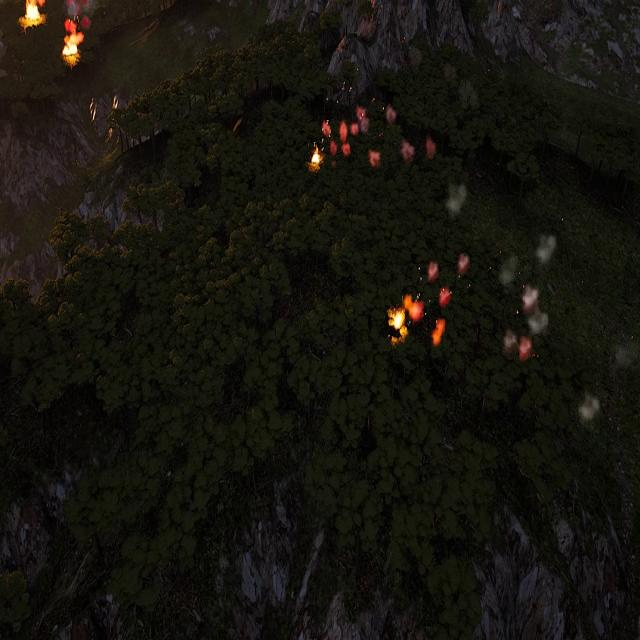fire: (388, 293, 423, 339), (61, 31, 84, 61), (22, 0, 46, 24), (310, 147, 323, 171)
smoke: (497, 228, 558, 362), (322, 106, 437, 172), (426, 250, 470, 346), (62, 0, 94, 39), (445, 183, 468, 222), (580, 391, 602, 424)
